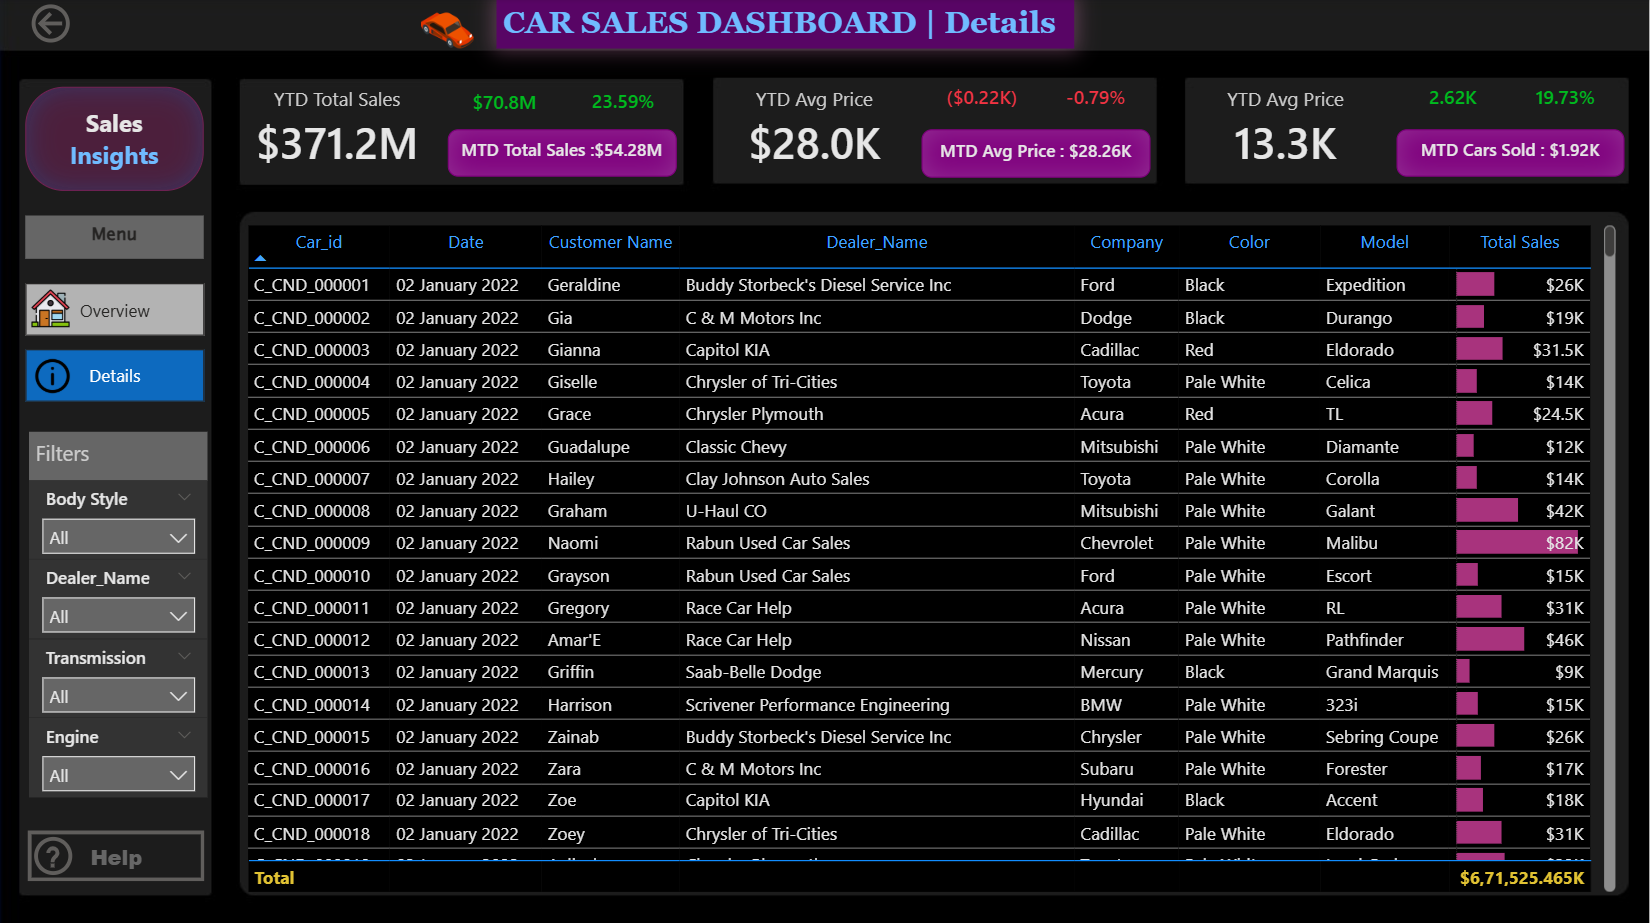

The page's visual inventory and layout, read from the dashboard file:
{"tool":"powerbi","page":{"name":"Details","canvas":[1280,720],"ordinal":1},"visuals":[{"type":"card","title":"YTD Total Sales","fields":{"Values":["car_data.YTD Total Sales"]},"box":[176,68.3,171.7,69.3],"z":0},{"type":"card","fields":{"Values":["car_data.Sales Difference"]},"box":[347.5,60,88.3,45.8],"z":1000},{"type":"card","fields":{"Values":["car_data.YoY Sales Growth"]},"box":[440,59.1,88,46.2],"z":2000},{"type":"card","fields":{"Values":["car_data.MTD KPI"]},"box":[347.6,101.7,177.4,37.2],"z":3000},{"type":"card","title":"YTD Avg Price","fields":{"Values":["car_data.YTD Avg Price"]},"box":[546.2,67.8,171.2,68.8],"z":4000},{"type":"card","fields":{"Values":["car_data.Avg Price Diff"]},"box":[718.3,56.7,88.3,45.8],"z":5000},{"type":"card","fields":{"Values":["car_data.YoY Avg Price Growth"]},"box":[806.7,56.7,88.3,45.8],"z":6000},{"type":"card","fields":{"Values":["car_data.MTD Avg Price KPI"]},"box":[715,101.7,177.5,37.5],"z":7000},{"type":"card","title":"YTD Avg Price","fields":{"Values":["car_data.YTD Cars Sold"]},"box":[912.2,67.8,171.1,68.9],"z":8000},{"type":"card","fields":{"Values":["car_data.Cars Sold Diff"]},"box":[1083.3,56.7,87.8,45.6],"z":9000},{"type":"card","fields":{"Values":["car_data.YoY Cars Sold Growth"]},"box":[1171.1,56.7,87.8,45.6],"z":10000},{"type":"card","fields":{"Values":["car_data.MTD Cars Sold KPI"]},"box":[1083.3,101.7,176.7,36.7],"z":11000},{"type":"textbox","box":[385.6,0,447.9,39.5],"z":12000},{"type":"slicer","fields":{"Values":["car_data.Body Style"]},"box":[23,374.3,138.5,61.1],"z":13000},{"type":"slicer","fields":{"Values":["car_data.Dealer_Name"]},"box":[23,435.4,138.5,61.5],"z":14000},{"type":"slicer","fields":{"Values":["car_data.Transmission"]},"box":[23,496.9,138.5,61.1],"z":15000},{"type":"slicer","fields":{"Values":["car_data.Engine"]},"box":[23,558,138.5,61.5],"z":16000},{"type":"textbox","box":[22.9,336.7,138.2,37.4],"z":17000},{"type":"tableEx","fields":{"Values":["car_data.Car_id","car_data.Date","car_data.Customer Name","car_data.Dealer_Name","car_data.Company","car_data.Color","car_data.Model","car_data.Price ($)"]},"box":[187.1,171.5,1071.5,526.9],"z":18000},{"type":"textbox","box":[20.8,68.6,138.2,81.1],"z":19000},{"type":"textbox","box":[20.8,168.4,138.2,33.3],"z":20000},{"type":"pageNavigator","box":[20.8,221.4,139.3,92.5],"z":21000},{"type":"image","box":[321.1,0,53,50.9],"z":22000},{"type":"image","box":[20.8,221.4,39.5,39.5],"z":23000},{"type":"image","box":[21.8,272.3,38.5,41.6],"z":24000},{"type":"actionButton","box":[21.8,645.4,137.2,39.5],"z":25000},{"type":"actionButton","box":[20.8,0,39.5,39.5],"z":26000}]}

Visuals, with their boxes in screenshot pixels (x1, y1, x2, y2), scaled from the page's 1280x720 canvas onto the 1650x923 screenshot:
"YTD Total Sales" card: x1=227 y1=88 x2=448 y2=176
card - car_data.Sales Difference: x1=448 y1=77 x2=562 y2=136
card - car_data.YoY Sales Growth: x1=567 y1=76 x2=681 y2=135
card - car_data.MTD KPI: x1=448 y1=130 x2=677 y2=178
"YTD Avg Price" card: x1=704 y1=87 x2=925 y2=175
card - car_data.Avg Price Diff: x1=926 y1=73 x2=1040 y2=131
card - car_data.YoY Avg Price Growth: x1=1040 y1=73 x2=1154 y2=131
card - car_data.MTD Avg Price KPI: x1=922 y1=130 x2=1150 y2=178
"YTD Avg Price" card: x1=1176 y1=87 x2=1396 y2=175
card - car_data.Cars Sold Diff: x1=1396 y1=73 x2=1510 y2=131
card - car_data.YoY Cars Sold Growth: x1=1510 y1=73 x2=1623 y2=131
card - car_data.MTD Cars Sold KPI: x1=1396 y1=130 x2=1624 y2=177
textbox: x1=497 y1=0 x2=1074 y2=51
slicer - car_data.Body Style: x1=30 y1=480 x2=208 y2=558
slicer - car_data.Dealer_Name: x1=30 y1=558 x2=208 y2=637
slicer - car_data.Transmission: x1=30 y1=637 x2=208 y2=715
slicer - car_data.Engine: x1=30 y1=715 x2=208 y2=794
textbox: x1=30 y1=432 x2=208 y2=480
tableEx - car_data.Car_id x car_data.Date: x1=241 y1=220 x2=1622 y2=895
textbox: x1=27 y1=88 x2=205 y2=192
textbox: x1=27 y1=216 x2=205 y2=259
pageNavigator: x1=27 y1=284 x2=206 y2=402
image: x1=414 y1=0 x2=482 y2=65
image: x1=27 y1=284 x2=78 y2=334
image: x1=28 y1=349 x2=78 y2=402
actionButton: x1=28 y1=827 x2=205 y2=878
actionButton: x1=27 y1=0 x2=78 y2=51
